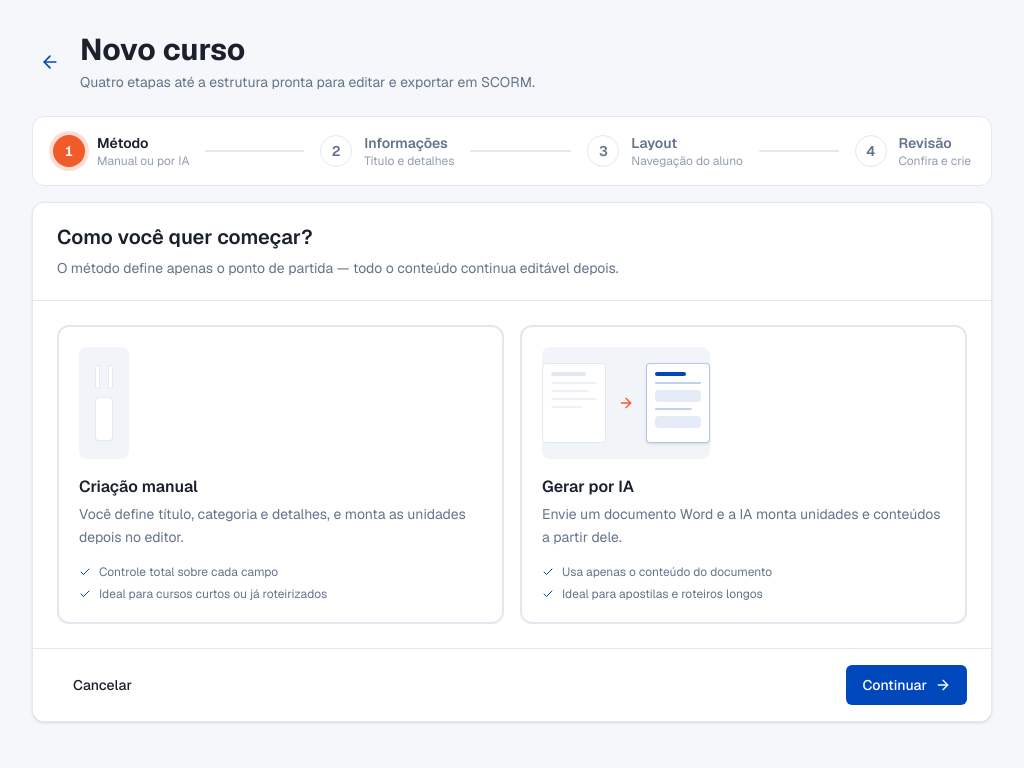
Test: New Course page › blocks the information step while a field is invalid
What coordinates should you click on to do the following:
click the radio button labelled "Criação manual"
I would click on:
 (104, 403)
Its box is x1=57 y1=325 x2=504 y2=624.
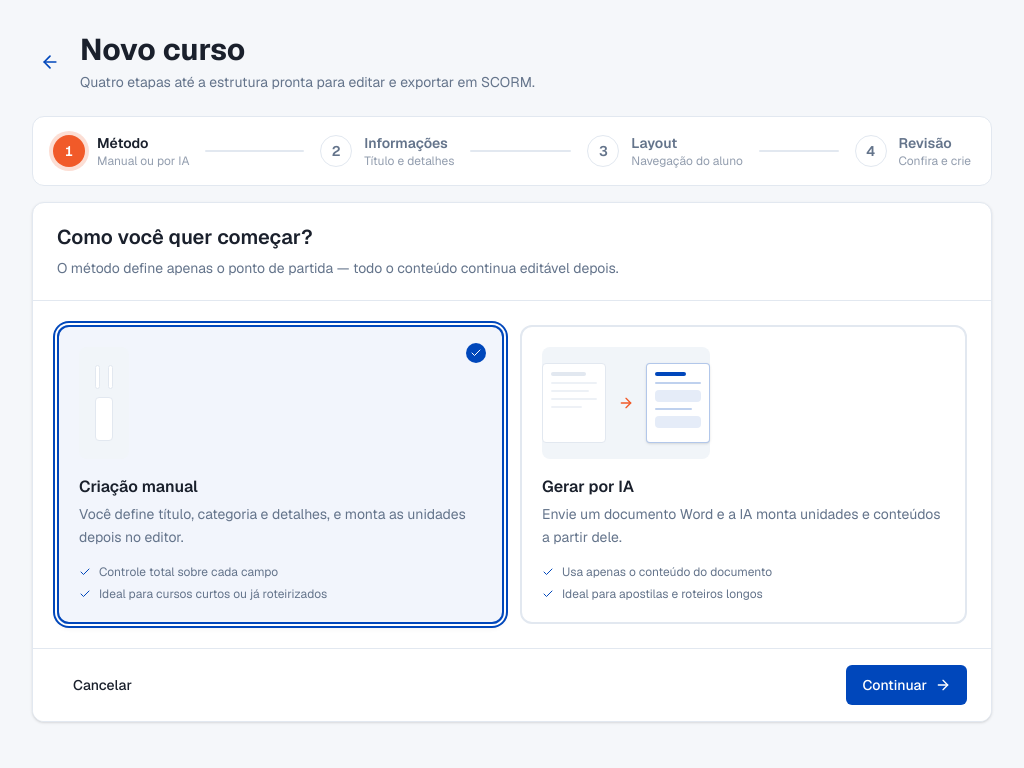
What coordinates should you click on to do the following:
click the button "Continuar"
I would click on:
 (907, 685)
Its box is x1=846 y1=665 x2=967 y2=705.
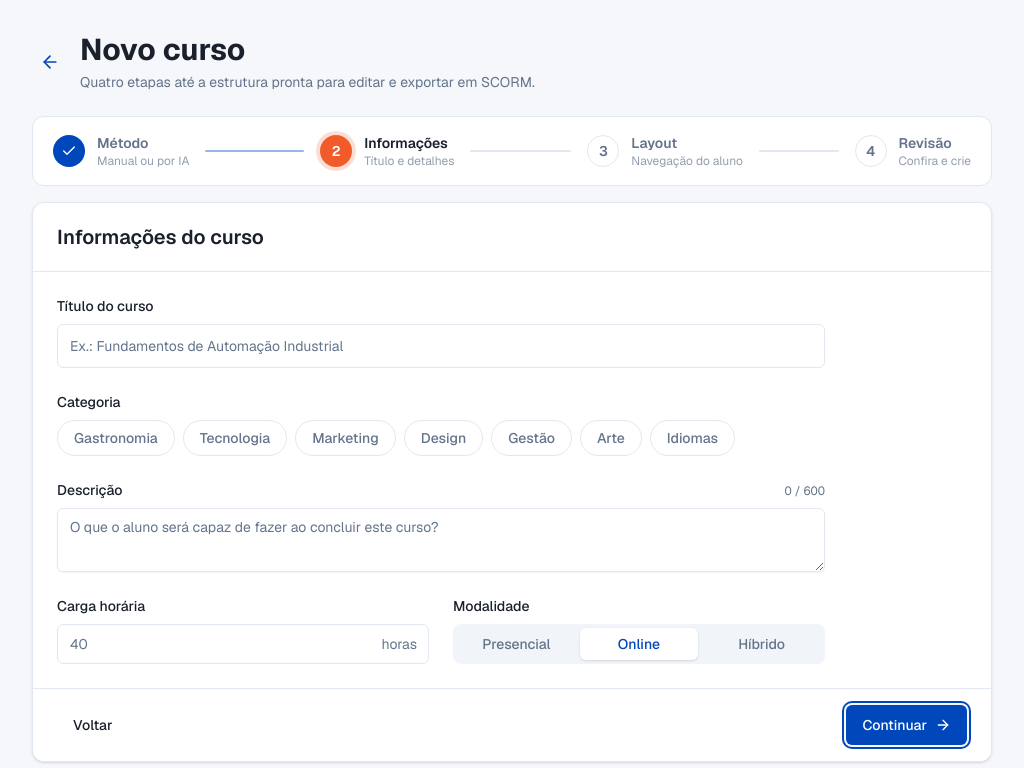
What coordinates should you click on to do the following:
click the button "Continuar"
I would click on:
 (907, 725)
Its box is x1=846 y1=705 x2=967 y2=745.
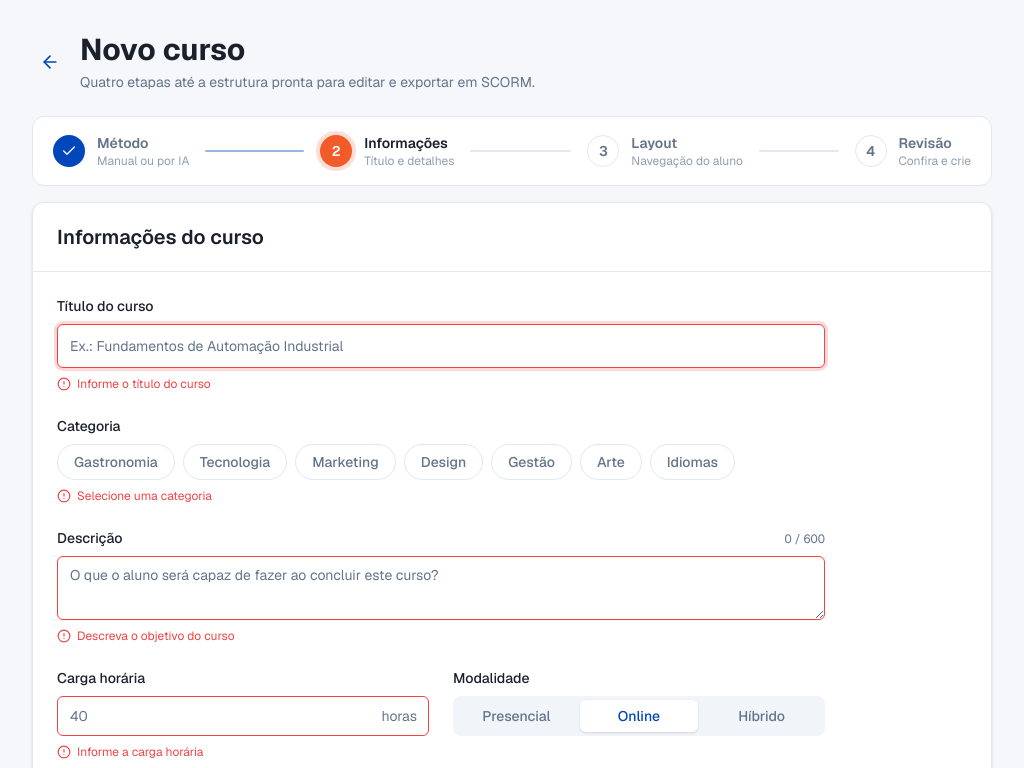
Check: the text "Informe o título do curso" is shown, box x1=57 y1=376 x2=211 y2=392
Check: the text "Selecione uma categoria" is shown, box x1=57 y1=488 x2=212 y2=504
